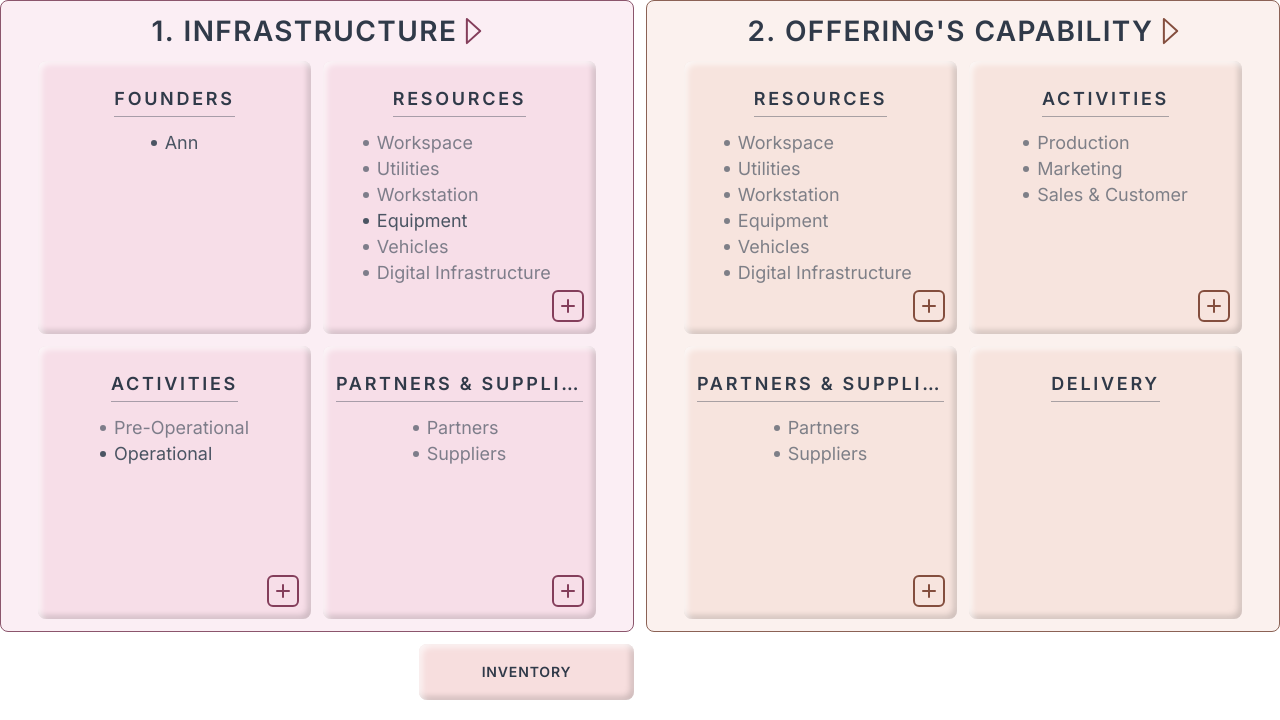
Scenario: the Activity card › the Resources tick opens a dropdown row per resource, with its link symbol and a + for another
What coordinates should you click on to do the following:
click the button "Activities" below "1."
I would click on:
 (174, 387)
Its box is [38,346,311,619].
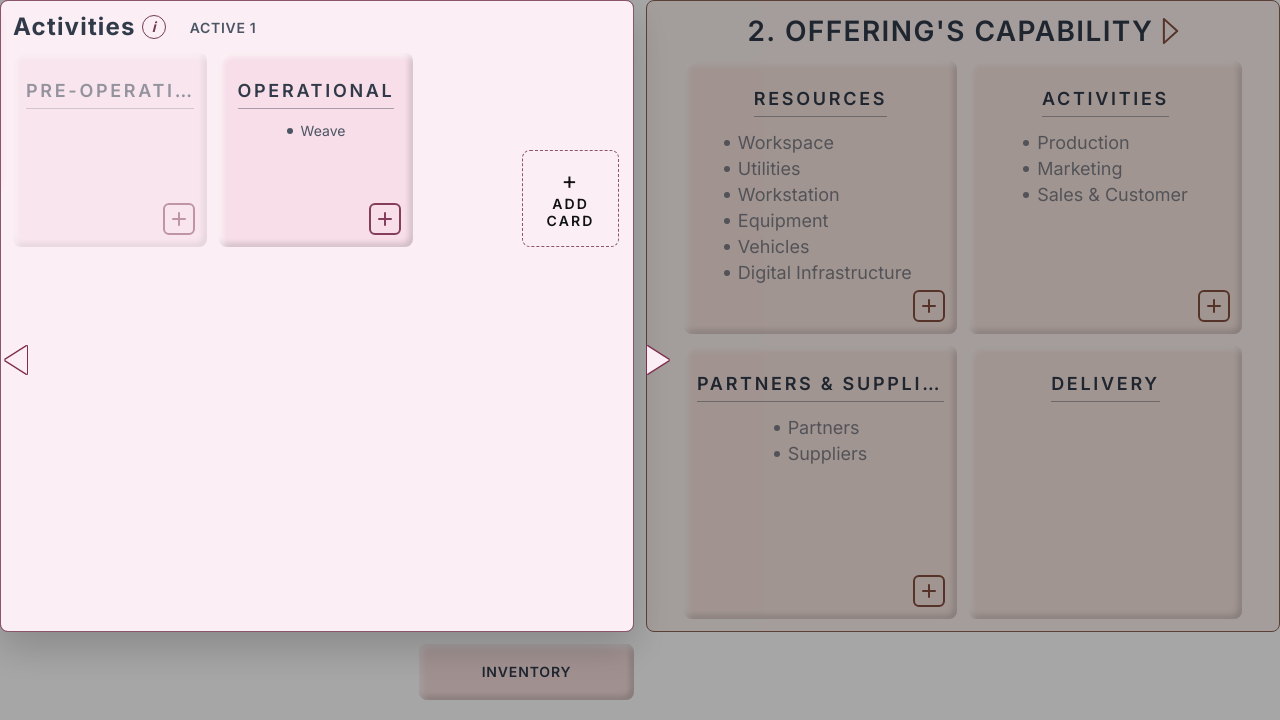
What coordinates should you click on to do the following:
click the button with class "section-tile" showing "Operational"
I would click on:
 (316, 150)
Its box is [219,53,413,247].
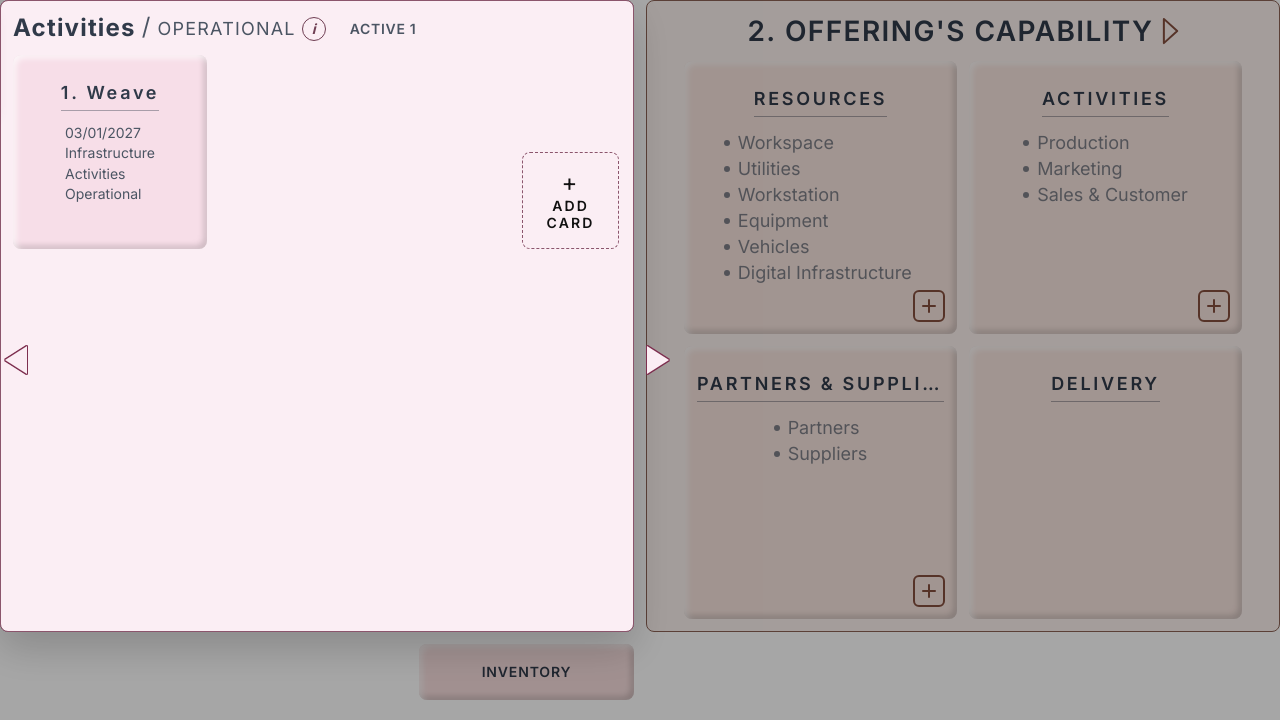
What coordinates should you click on to do the following:
click the button with class "card-tile"
I would click on:
 (110, 152)
Its box is [13,55,207,249].
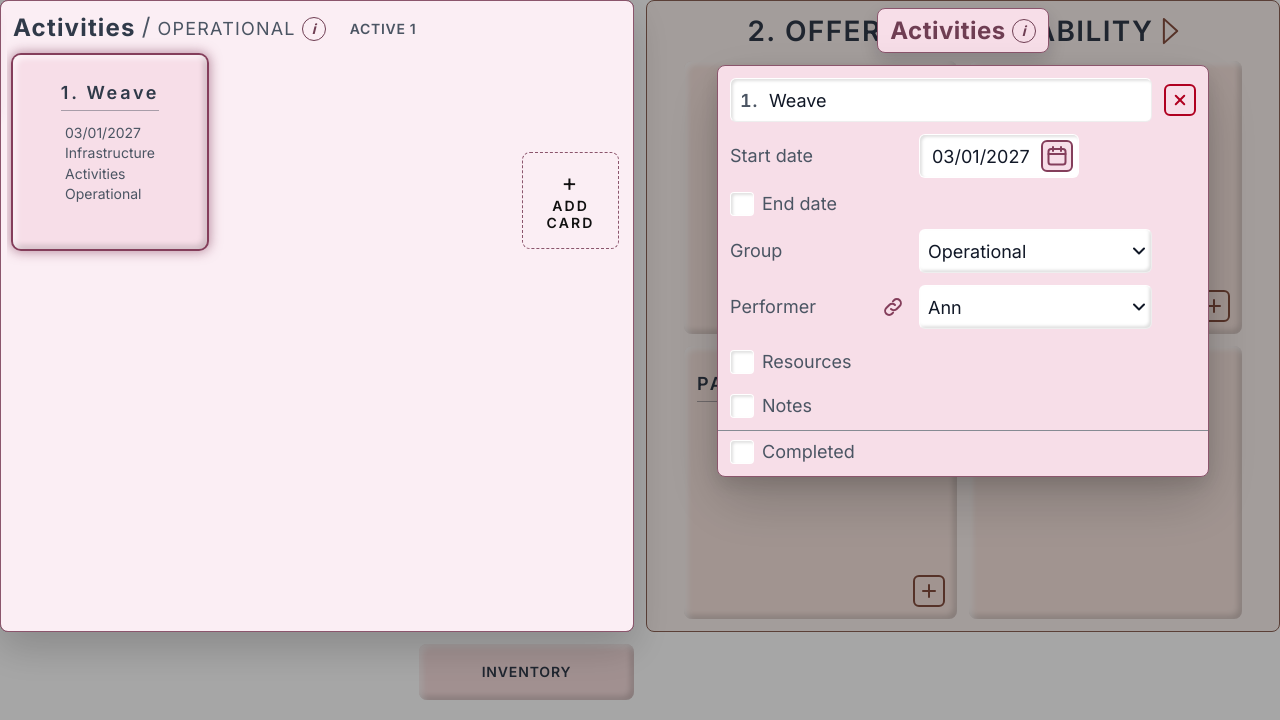
What coordinates should you click on to do the following:
click the checkbox labelled "Resources"
I would click on:
 (742, 362)
Its box is [730,350,754,374].
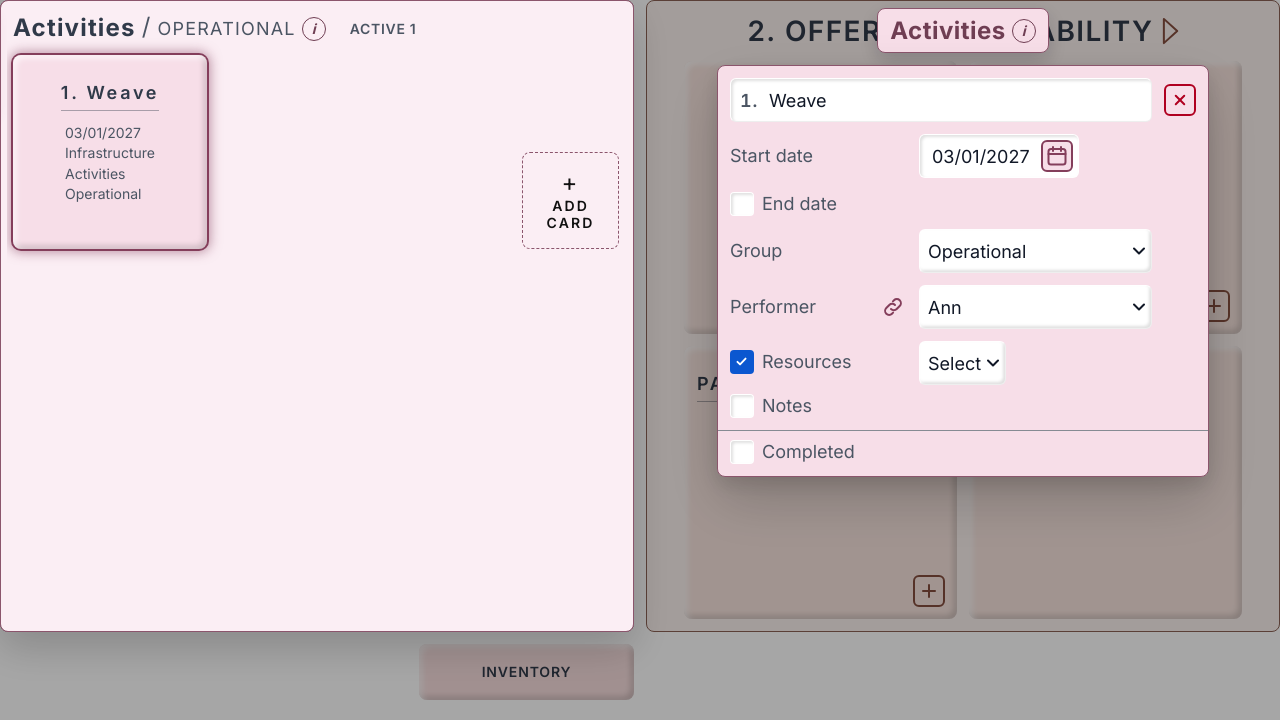
What coordinates should you click on to do the following:
click the button with aria-label "Activity 1 resource 1: "
I would click on:
 (963, 364)
Its box is [919,342,1006,386].
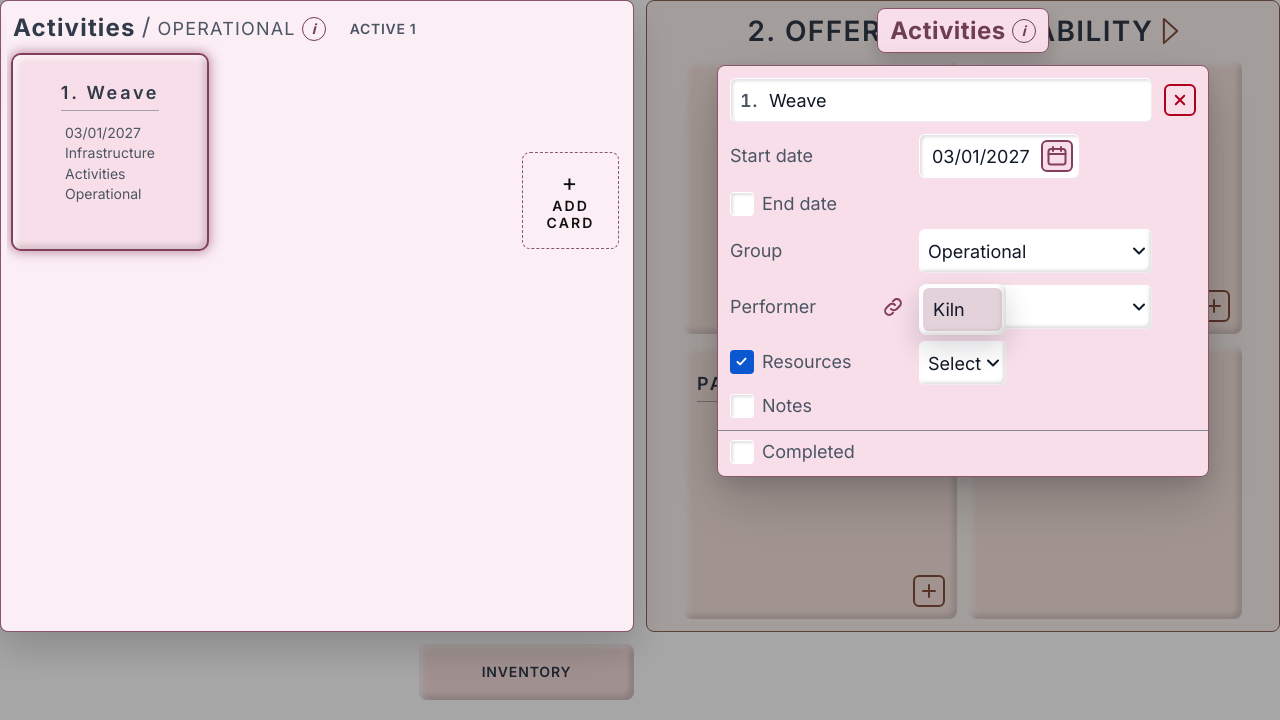
What coordinates should you click on to do the following:
click the option "Kiln"
I would click on:
 (963, 310)
Its box is [923,288,1002,332].
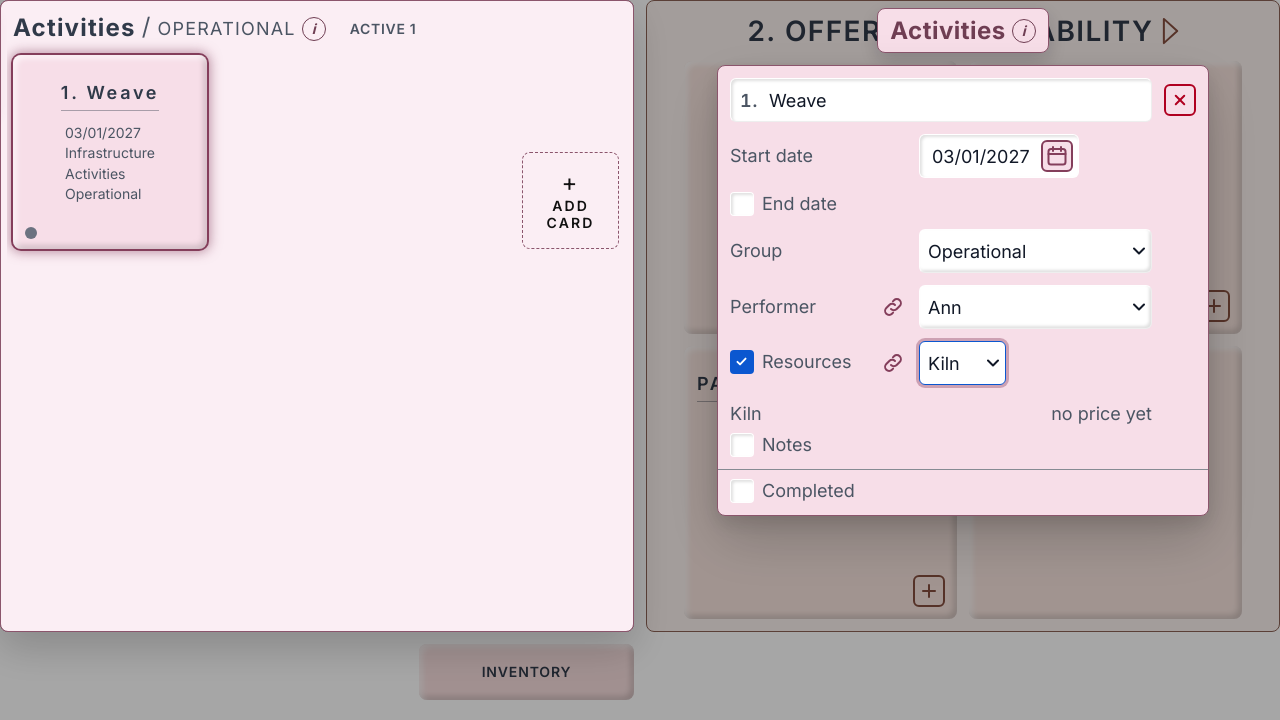
Check: the button named "Open Resource “Kiln”" is shown, box [875,352,911,376]
